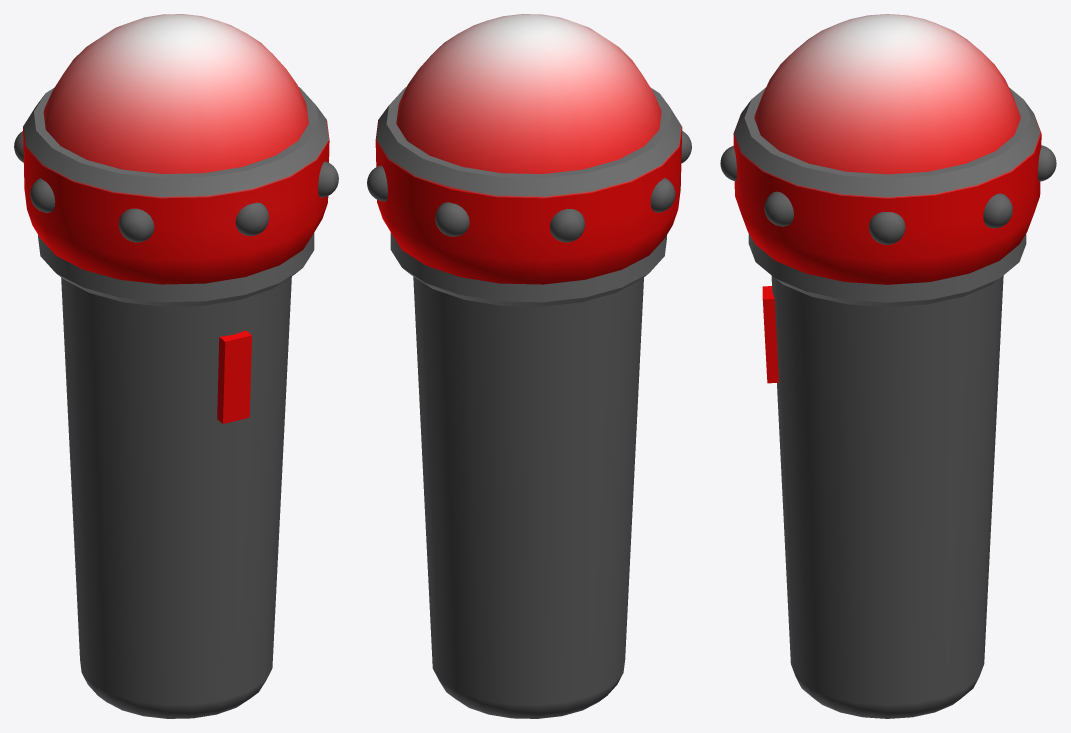
Rendered from rait_.fbx.
3 renders of one model, left to right at view 1: azimuth 30°, elevation 25°; view 2: azimuth 150°, elevation 25°; view 3: azimuth 270°, elevation 25°, orthographic.
Visible parts, largest first — view 1: pCylinder5; view 2: pCylinder5; view 3: pCylinder5.
Part boxes in pixels (x1,y1,x2,y2): pCylinder5: (14, 14, 338, 718); pCylinder5: (367, 14, 691, 718); pCylinder5: (720, 14, 1056, 718).
Bounding box in the file's own units: 0.0108 × 0.0236 × 0.0109.
